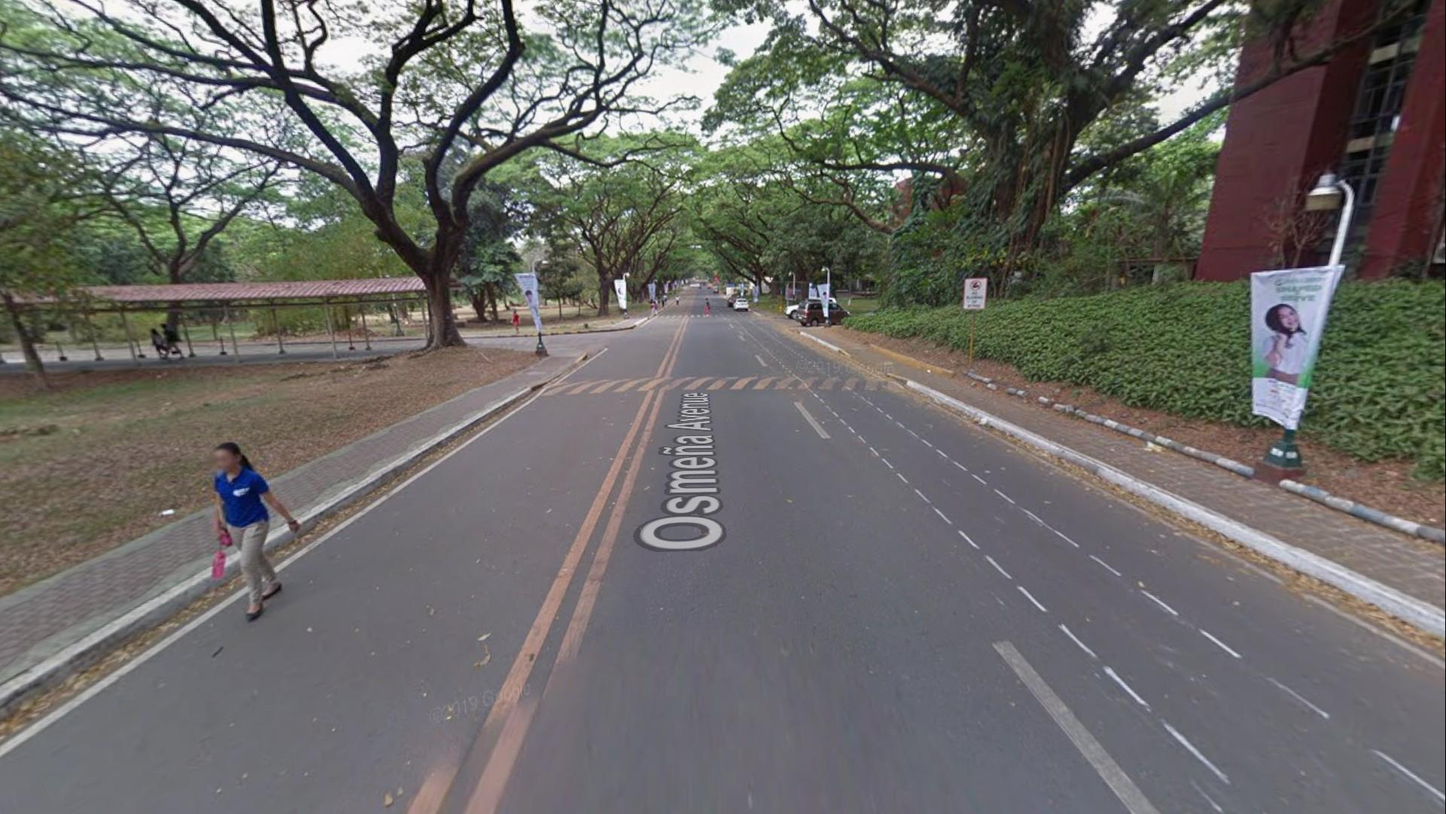pedestrian: (208, 439, 302, 624), (158, 322, 186, 363), (149, 327, 164, 361), (510, 307, 522, 336), (704, 296, 712, 318), (650, 300, 659, 318), (676, 295, 680, 306), (661, 298, 665, 308)
